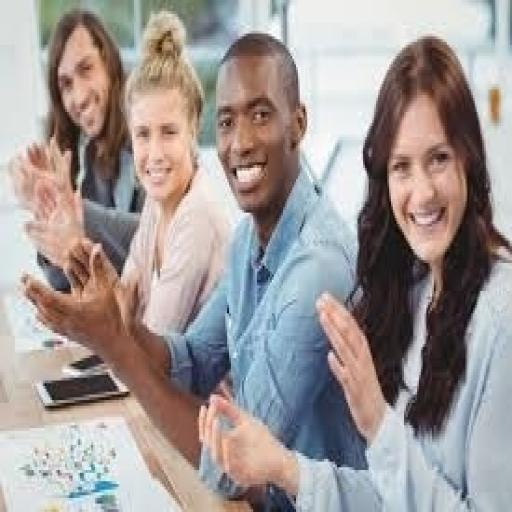clapping: (196, 34, 510, 509), (90, 89, 379, 474), (51, 41, 262, 483), (22, 20, 209, 386)
